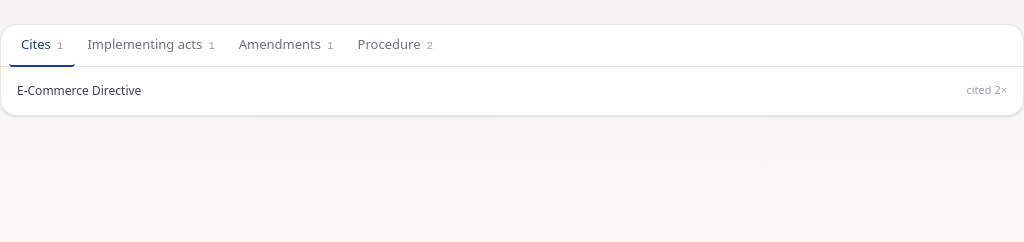
MetadataPanel tabs › renders populated procedure rows and the procedure footer link
Click the tab "Procedure 2" at point(395, 46), box [346,25,445,66]
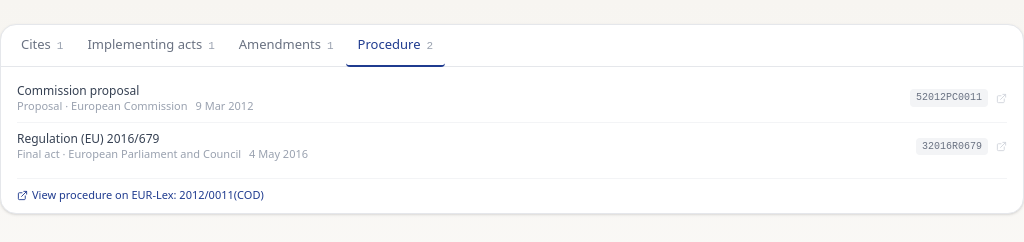
Expected: the text "Commission proposal" is shown, [17,82,139,98]
Expected: the text "proposal" is shown, [17,82,139,98]
Expected: the text "European Commission" is shown, [62,98,188,113]
